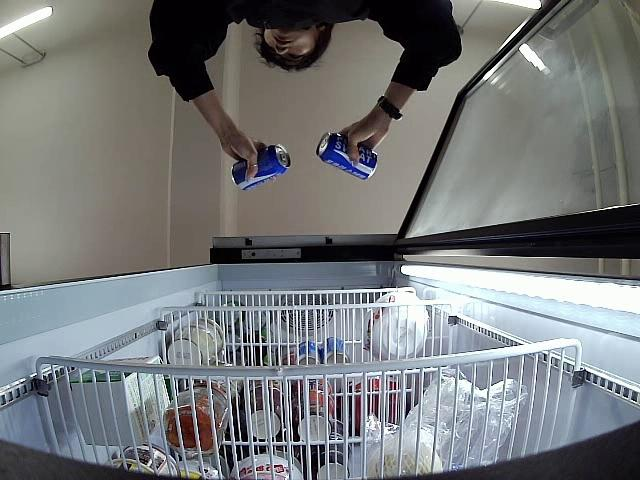00_hand: (223, 126, 266, 184), (342, 121, 386, 165)
13_pocariSweat: (315, 131, 378, 180), (231, 146, 291, 193)
